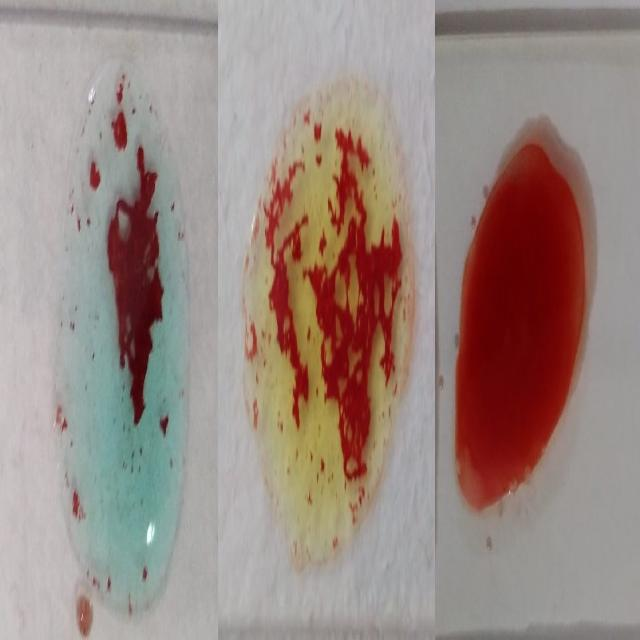A: (60, 56, 188, 620)
B: (248, 75, 408, 565)
